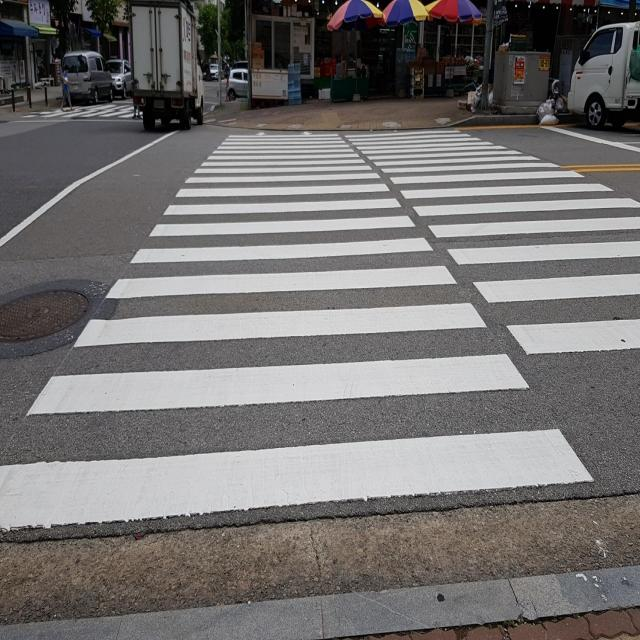횡단보도: (0, 130, 640, 533), (35, 95, 197, 122)
